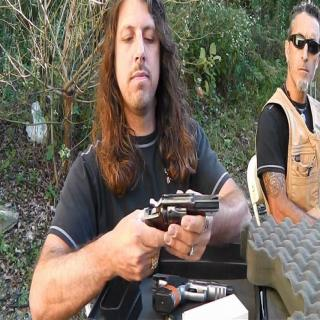gun: (122, 184, 230, 271), (145, 268, 243, 318)
